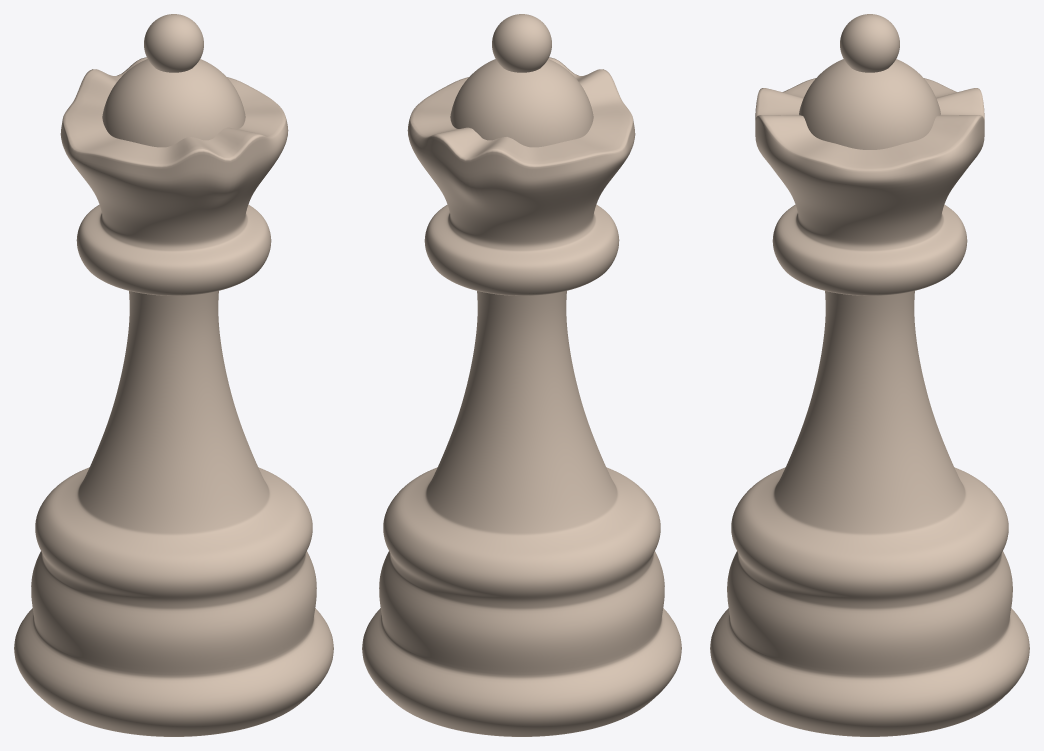
Rendered from white_queen.glb.
3 views of the same model, side by side, from view 1: azimuth 30°, elevation 25°; view 2: azimuth 150°, elevation 25°; view 3: azimuth 270°, elevation 25° (orthographic).
Parts seen in each view (by area): view 1: βασίλισσα; view 2: βασίλισσα; view 3: βασίλισσα.
Boxes of the visible parts, x1,y1,x2,y2 form: βασίλισσα: (14, 14, 333, 736); βασίλισσα: (362, 14, 681, 736); βασίλισσα: (710, 14, 1029, 736).
Bounding box in the file's own units: 3.21 × 7.32 × 3.21.
